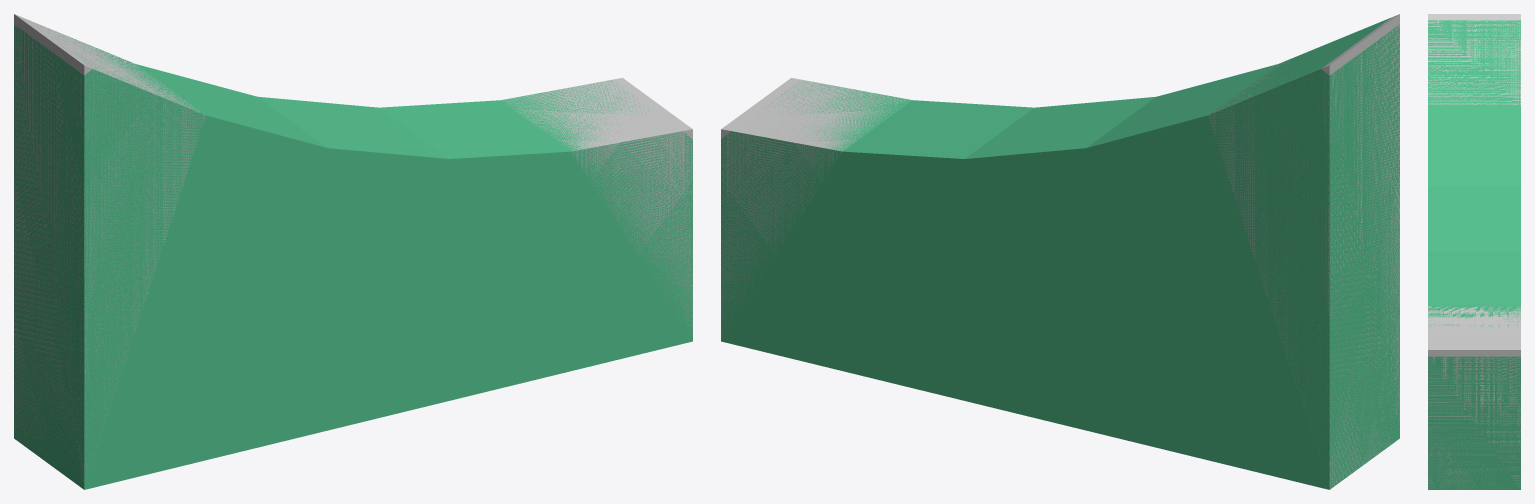
Rendered from gm_flipramp_01.dae.
3 renders of one model, left to right at view 1: azimuth 30°, elevation 25°; view 2: azimuth 150°, elevation 25°; view 3: azimuth 270°, elevation 25°, orthographic. The views are drawn at different scales.
Parts seen in each view (by area): view 1: Colmesh-1, ind_bld_c10; view 2: Colmesh-1, ind_bld_c10; view 3: Colmesh-1, ind_bld_c10.
Part boxes in pixels (left/top/right/bottom): Colmesh-1: left=14, top=20, right=692, bottom=489; ind_bld_c10: left=14, top=14, right=692, bottom=481; Colmesh-1: left=721, top=18, right=1399, bottom=489; ind_bld_c10: left=721, top=14, right=1399, bottom=489; Colmesh-1: left=1428, top=20, right=1520, bottom=489; ind_bld_c10: left=1428, top=14, right=1520, bottom=489.
Size of the model in its own units: 3 by 0.6 by 2.
